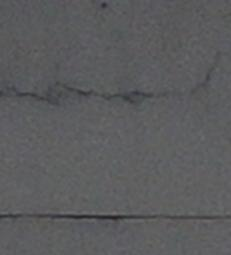fissura: (0, 43, 223, 110)
